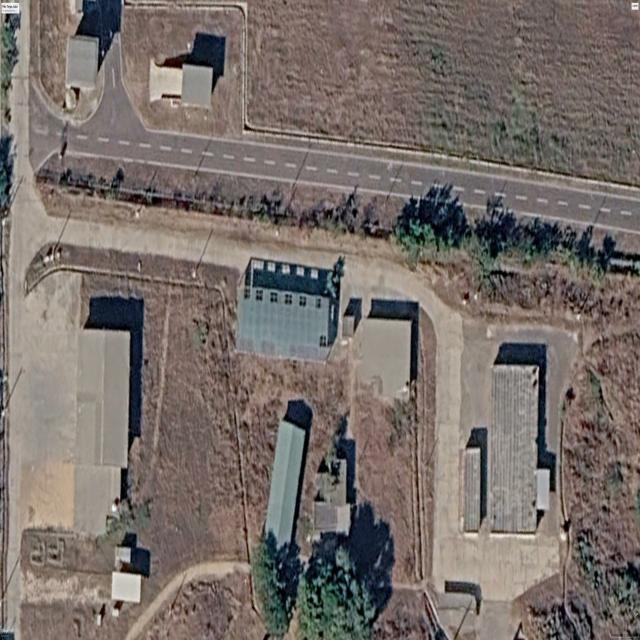Home: (74, 329, 130, 535), (236, 258, 341, 360), (487, 364, 539, 534), (265, 399, 313, 546), (356, 317, 411, 398)
